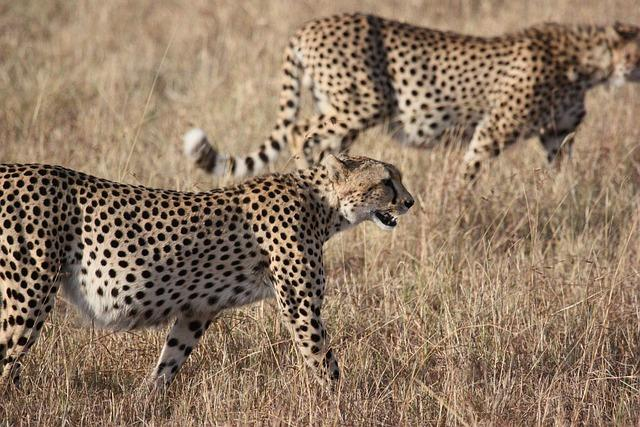Non_Gorille: (1, 0, 640, 427)
